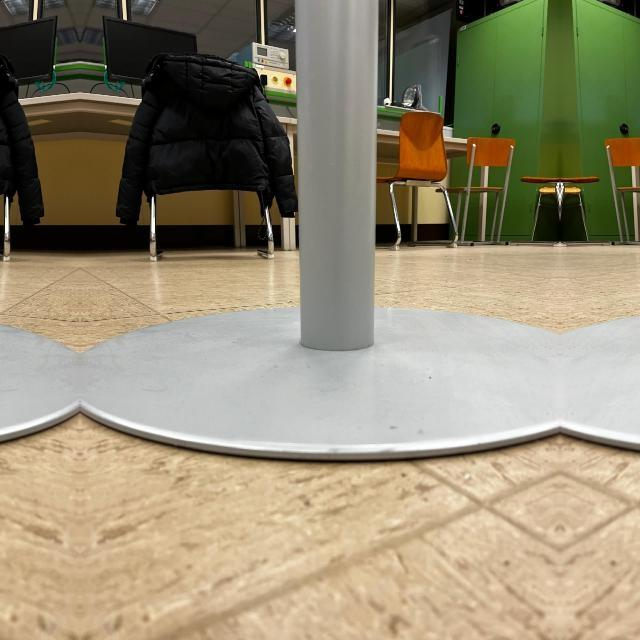obstacle: (80, 24, 560, 466), (0, 23, 80, 466), (560, 23, 640, 466)
